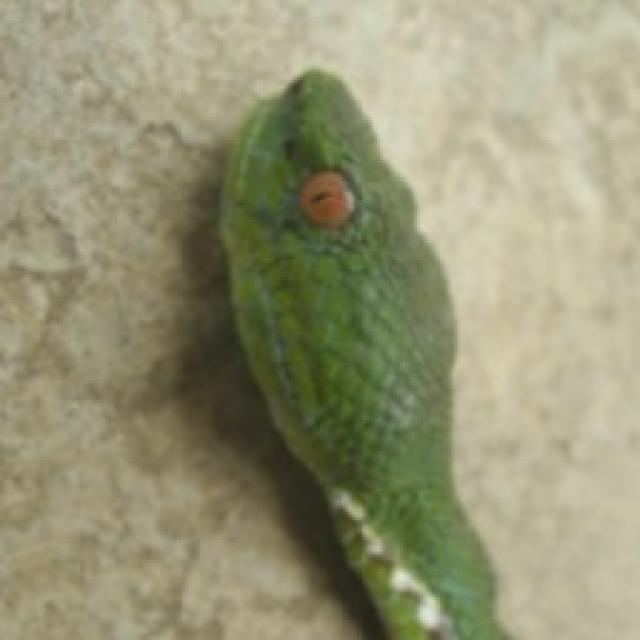philippine pitviper: (223, 71, 506, 637)
